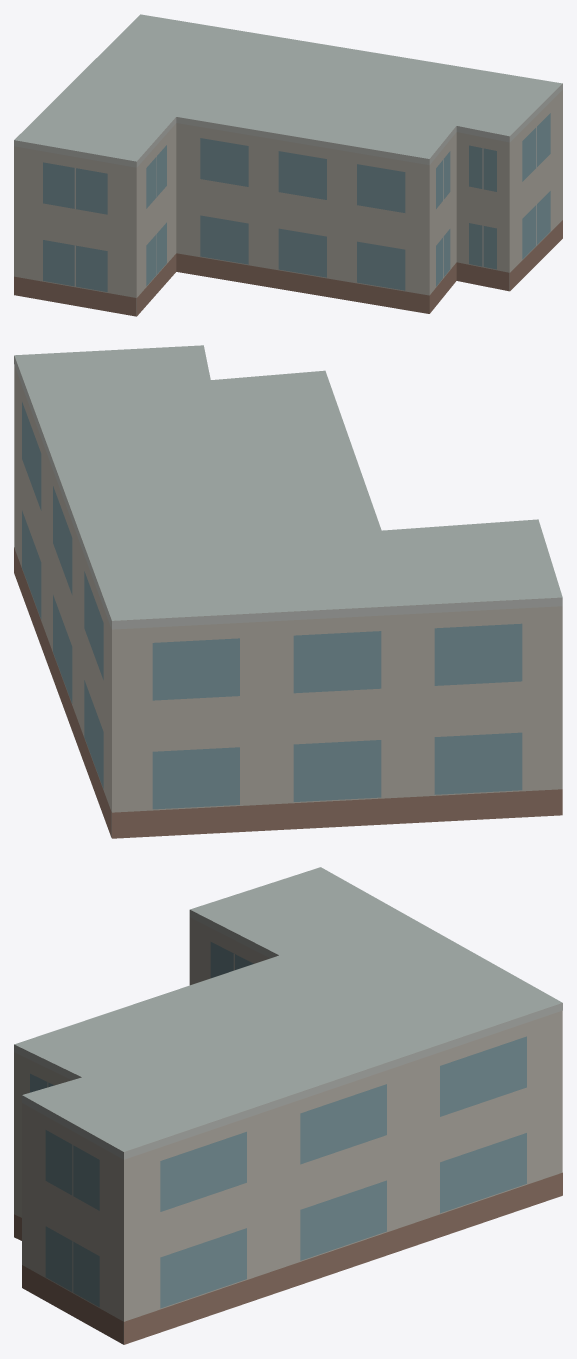
Rendered from survey-upis-32764771.glb.
The picture shows the model from 3 angles, top to bottom: view 1: azimuth 30°, elevation 25°; view 2: azimuth 150°, elevation 25°; view 3: azimuth 270°, elevation 25°; orthographic projection. The views are drawn at different scales.
Parts seen in each view (by area): view 1: survey-upis-32764771.tmp; view 2: survey-upis-32764771.tmp; view 3: survey-upis-32764771.tmp.
Boxes of the visible parts, x1=… form: survey-upis-32764771.tmp: x1=14, y1=14, x2=562, y2=316; survey-upis-32764771.tmp: x1=14, y1=345, x2=562, y2=838; survey-upis-32764771.tmp: x1=14, y1=867, x2=562, y2=1344.
Bounding box in the file's own units: 19.35 × 6.1 × 15.74.
